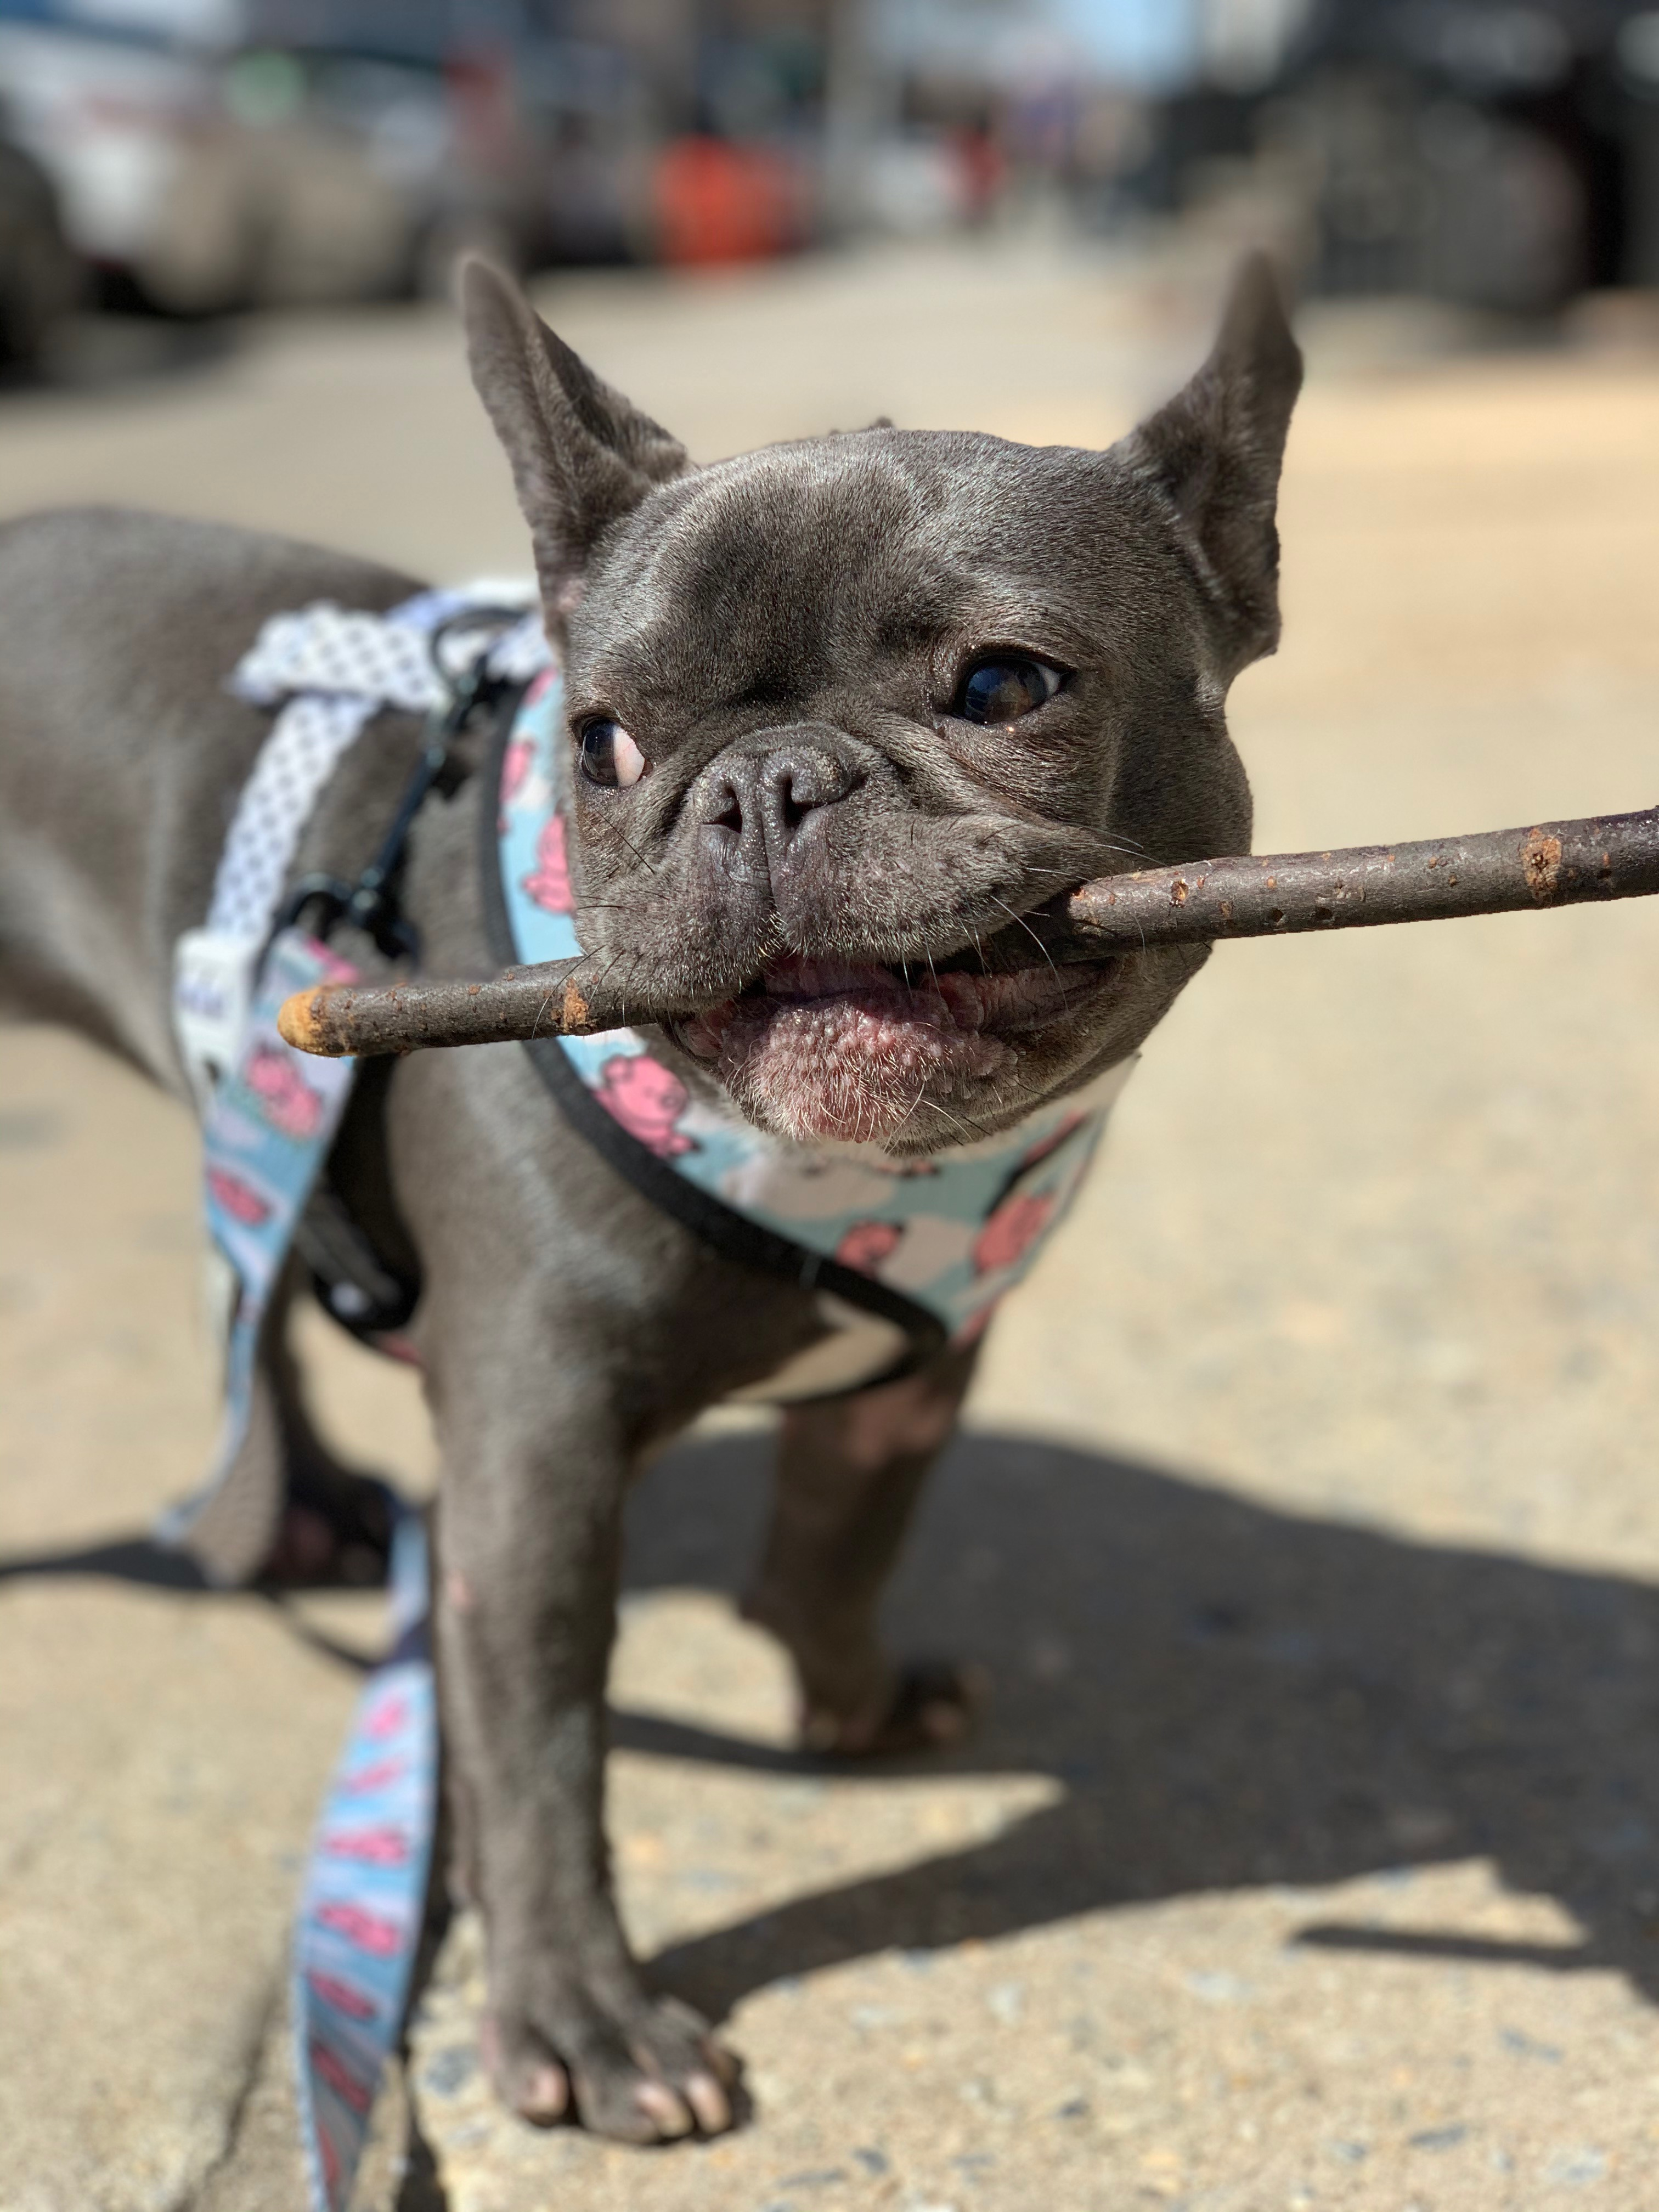lucy: (9, 256, 1314, 2135)
